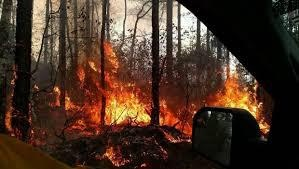fire: (54, 44, 156, 132), (207, 62, 266, 131)
